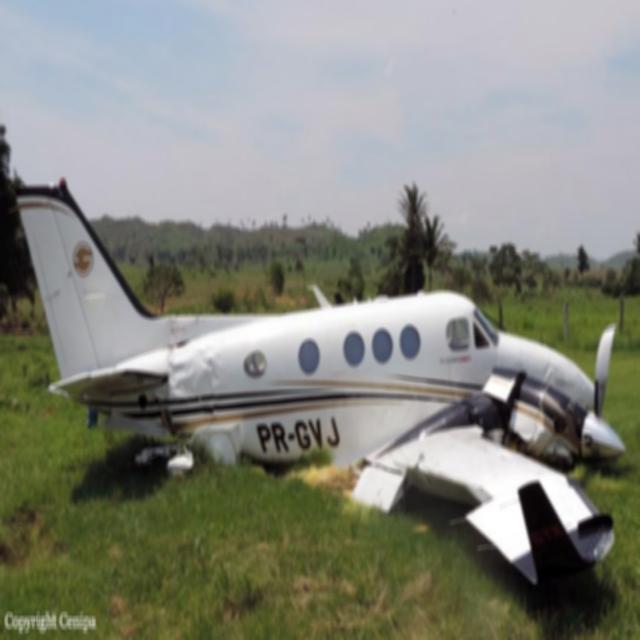dent: (170, 352, 220, 411)
